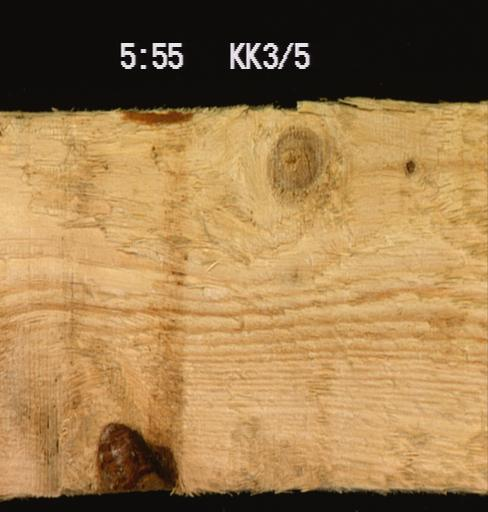small_knot: (400, 155, 420, 177)
sound_knot: (263, 118, 350, 217)
